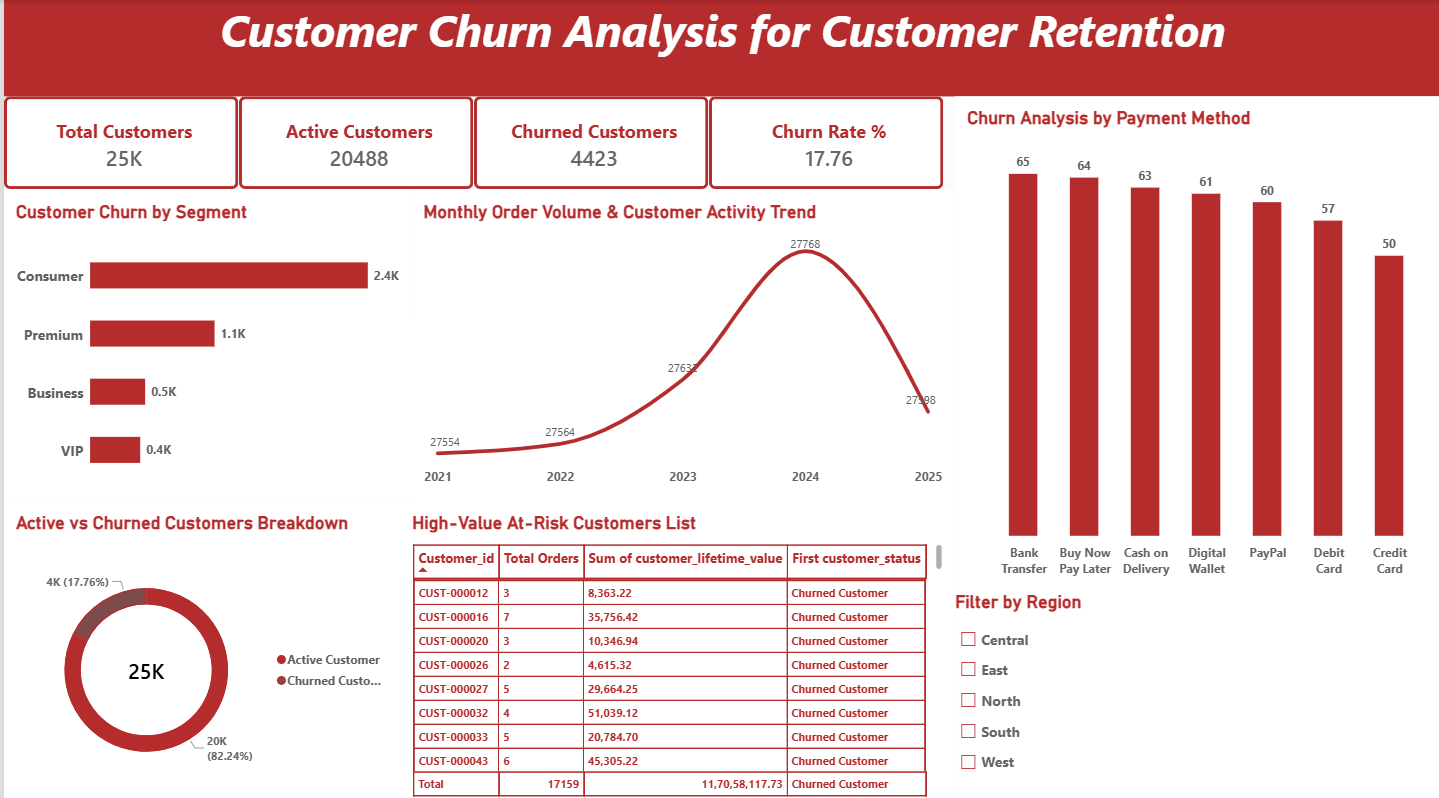

This screenshot's page, from the dashboard's own definition file:
{"tool":"powerbi","page":{"name":"Page 1","canvas":[1920,1080],"ordinal":0},"visuals":[{"type":"cardVisual","fields":{"Data":["ecommerce_analytics_db ecommerce_master_final.Total Customers"]},"box":[0,128.7,313.9,124.8],"z":0},{"type":"textbox","box":[0,0,1920.4,128.8],"z":1000},{"type":"cardVisual","fields":{"Data":["ecommerce_analytics_db ecommerce_master_final.Active Customers"]},"box":[313.9,128.7,313.9,124.8],"z":2000},{"type":"cardVisual","fields":{"Data":["ecommerce_analytics_db ecommerce_master_final.Churned Customers"]},"box":[627.8,128.7,313.9,124.8],"z":3000},{"type":"cardVisual","fields":{"Data":["ecommerce_analytics_db ecommerce_master_final.Churn Rate %"]},"box":[941.7,128.7,313.9,124.8],"z":4000},{"type":"clusteredBarChart","title":"Customer Churn by Segment","fields":{"Category":["ecommerce_analytics_db ecommerce_master_final.customer_segment"],"Y":["ecommerce_analytics_db ecommerce_master_final.Churned Customers"]},"box":[0,253.5,543.9,415.3],"z":5000},{"type":"lineChart","title":"Monthly Order Volume & Customer Activity Trend","fields":{"Category":["ecommerce_analytics_db ecommerce_master_final.order_date.Variation.Date Hierarchy.Year","ecommerce_analytics_db ecommerce_master_final.order_date.Variation.Date Hierarchy.Month"],"Y":["ecommerce_analytics_db ecommerce_master_final.Total Orders"]},"box":[544.8,254,725.2,416],"z":6000},{"type":"donutChart","title":"Active vs Churned Customers Breakdown","fields":{"Category":["ecommerce_analytics_db ecommerce_master_final.customer_status"],"Y":["ecommerce_analytics_db ecommerce_master_final.Total Customers"]},"box":[0,669.9,530.1,408.6],"z":7000},{"type":"columnChart","title":"Churn Analysis by Payment Method","fields":{"Category":["ecommerce_analytics_db ecommerce_master_final.payment_method"],"Y":["ecommerce_analytics_db ecommerce_master_final.Churn Rate %"]},"box":[1269.9,128.8,649.7,660.7],"z":8000},{"type":"tableEx","title":"High-Value At-Risk Customers List","fields":{"Values":["ecommerce_analytics_db ecommerce_master_final.customer_id","ecommerce_analytics_db ecommerce_master_final.Total Orders","Sum(ecommerce_analytics_db ecommerce_master_final.customer_lifetime_value)","Min(ecommerce_analytics_db ecommerce_master_final.customer_status)"]},"box":[530.1,669.9,739.9,410.4],"z":9000},{"type":"slicer","title":"Filter by Region","fields":{"Values":["ecommerce_analytics_db ecommerce_master_final.region"]},"box":[1269.9,789.6,649.7,289],"z":10000}]}

Visuals, with their boxes in screenshot pixels (x1, y1, x2, y2), scaled from the page's 1920x1080 canvas onto the 1439x798 screenshot:
cardVisual - ecommerce_analytics_db ecommerce_master_final.Total Customers: 0:95:235:187
textbox: 0:0:1438:95
cardVisual - ecommerce_analytics_db ecommerce_master_final.Active Customers: 235:95:471:187
cardVisual - ecommerce_analytics_db ecommerce_master_final.Churned Customers: 471:95:706:187
cardVisual - ecommerce_analytics_db ecommerce_master_final.Churn Rate %: 706:95:941:187
"Customer Churn by Segment" clusteredBarChart: 0:187:408:494
"Monthly Order Volume & Customer Activity Trend" lineChart: 408:188:952:495
"Active vs Churned Customers Breakdown" donutChart: 0:495:397:797
"Churn Analysis by Payment Method" columnChart: 952:95:1438:583
"High-Value At-Risk Customers List" tableEx: 397:495:952:797
"Filter by Region" slicer: 952:583:1438:797
